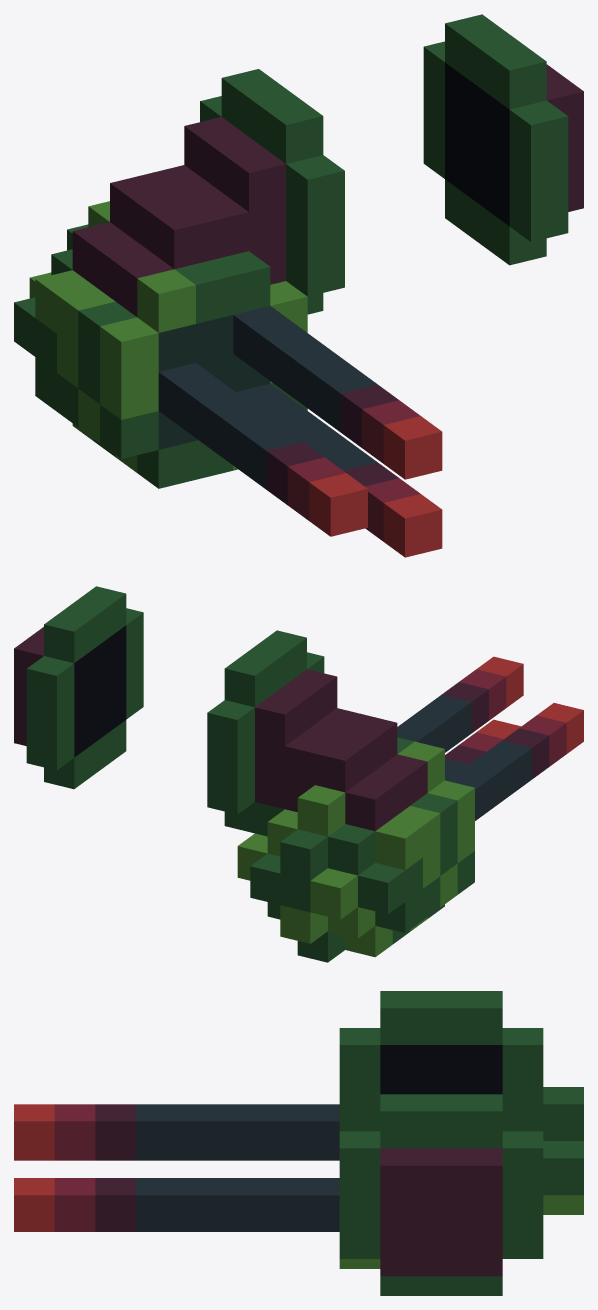
File: WeaponMinigun.obj
3 views of the same model, one above another, from view 1: azimuth 30°, elevation 25°; view 2: azimuth 150°, elevation 25°; view 3: azimuth 270°, elevation 25° (orthographic). The views are drawn at different scales.
Bounding box in the file's own units: 1.3 × 0.8 × 1.4.
Materials: 1 (1 with a texture image).
